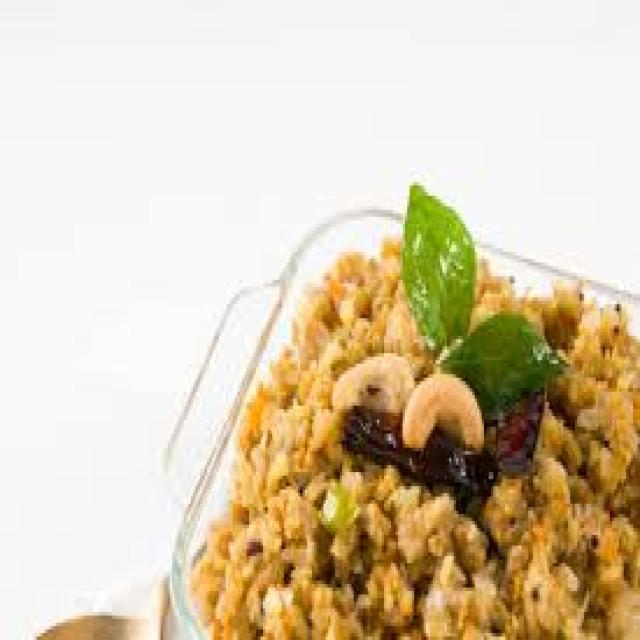UPMA: (182, 185, 635, 637)
